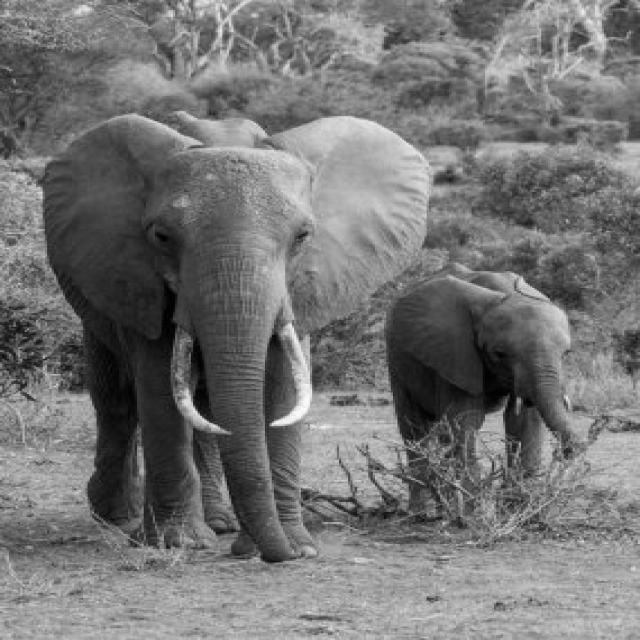Animal: (45, 129, 433, 562), (394, 267, 592, 538)
